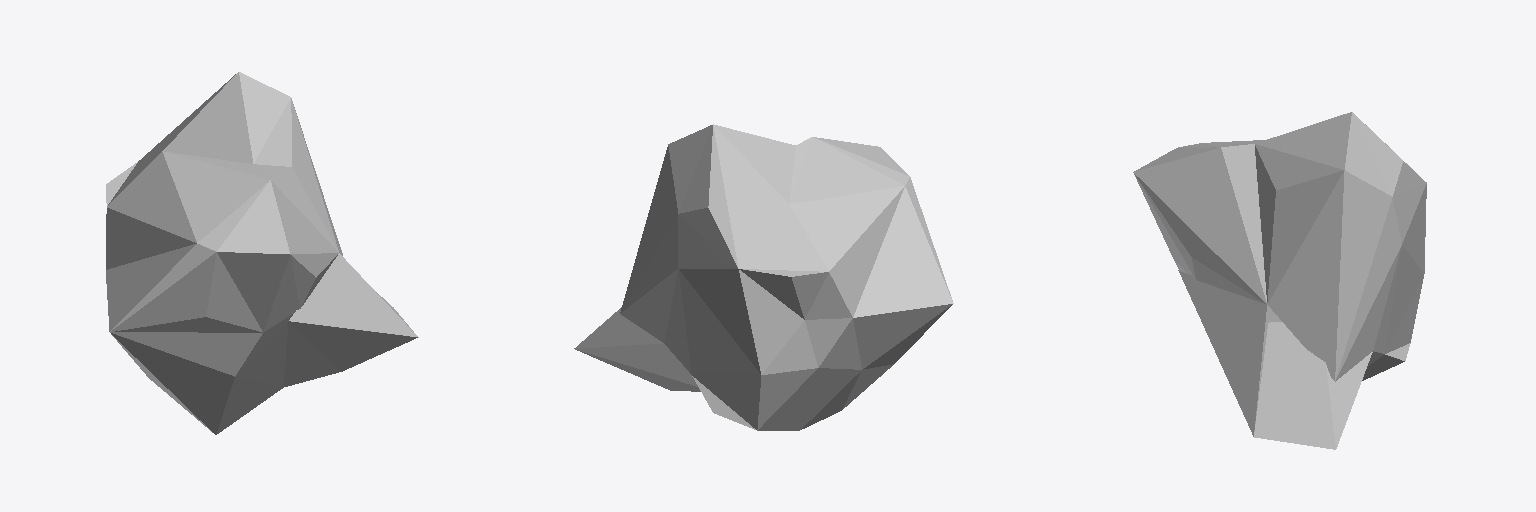
The model's file is Rock2.obj.
3 views of the same model, side by side, from view 1: azimuth 30°, elevation 25°; view 2: azimuth 150°, elevation 25°; view 3: azimuth 270°, elevation 25° (orthographic).
Visible parts, largest first — view 1: Icosphere.016_Icosphere.002; view 2: Icosphere.016_Icosphere.002; view 3: Icosphere.016_Icosphere.002.
Part boxes in pixels (x1,y1,x2,y2): Icosphere.016_Icosphere.002: (106, 72, 418, 434); Icosphere.016_Icosphere.002: (574, 124, 953, 430); Icosphere.016_Icosphere.002: (1133, 112, 1426, 449).
Bounding box in the file's own units: 1.7 × 1.5 × 1.3.